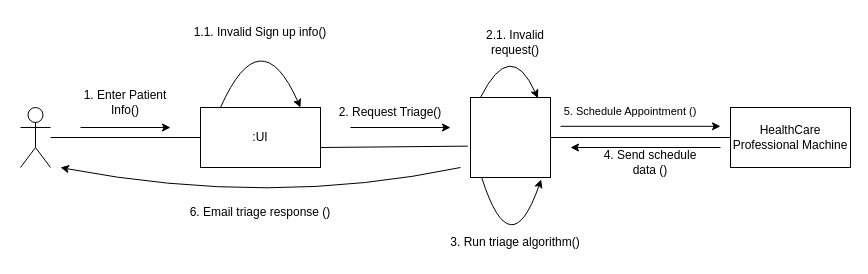
This 868x274 diagram has some shape labels left out. The box of each missing label's shape, as (x1, y1, x2, y2) in pixels:
:Mister ED System: (470, 96, 550, 178)
Patient: (20, 106, 50, 168)
